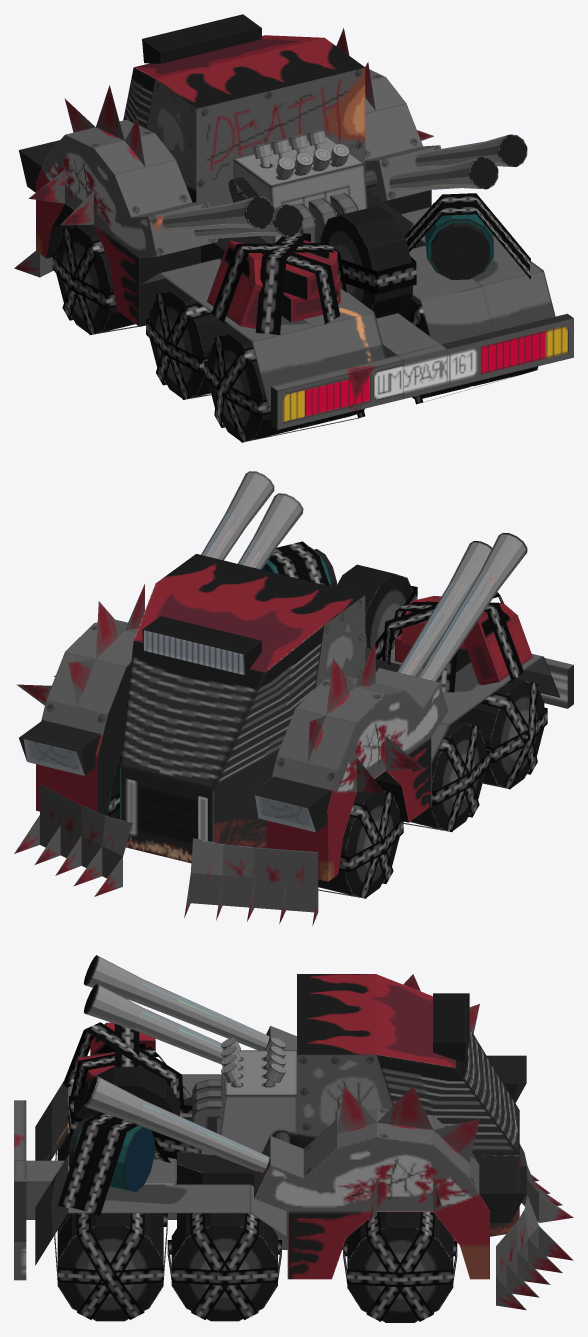
File: Truck.fbx
3 views of the same model, one above another, from view 1: azimuth 30°, elevation 25°; view 2: azimuth 150°, elevation 25°; view 3: azimuth 270°, elevation 25° (orthographic). The views are drawn at different scales.
Parts seen in each view (by area): view 1: Body, Engine, cylinder_14, cylinder_2, cylinder_4, cylinder, cylinder_33, cylinder_10, cylinder_9, plane_3, cylinder_12, plane_2 (+17 smaller); view 2: Body, plane_1, plane, cylinder_10, cylinder_4, cylinder_11, cylinder, cylinder_14, cylinder_2, cylinder_12, cylinder_9, plane_2 (+12 smaller); view 3: Body, Engine, cylinder_6, cylinder_15, cylinder_1, cylinder_12, cylinder_10, plane, cylinder_11, cylinder_14, plane_26, plane_25 (+15 smaller).
Boxes of the visible parts, left/top/right/bottom form: Body: left=19, top=14, right=573, bottom=429; Engine: left=233, top=136, right=367, bottom=243; cylinder_14: left=320, top=205, right=412, bottom=318; cylinder_2: left=149, top=288, right=236, bottom=398; cylinder_4: left=208, top=331, right=306, bottom=441; cylinder: left=56, top=224, right=135, bottom=333; cylinder_33: left=431, top=223, right=489, bottom=279; cylinder_10: left=162, top=196, right=274, bottom=231; cylinder_9: left=389, top=156, right=498, bottom=191; plane_3: left=255, top=233, right=310, bottom=334; cylinder_12: left=415, top=134, right=527, bottom=169; plane_2: left=211, top=243, right=346, bottom=323; Body: left=17, top=554, right=573, bottom=881; plane_1: left=184, top=838, right=318, bottom=925; plane: left=14, top=784, right=132, bottom=896; cylinder_10: left=418, top=533, right=527, bottom=681; cylinder_4: left=456, top=678, right=544, bottom=789; cylinder_11: left=397, top=541, right=491, bottom=676; cylinder: left=318, top=791, right=399, bottom=896; cylinder_14: left=335, top=564, right=413, bottom=648; cylinder_2: left=410, top=721, right=485, bottom=830; cylinder_12: left=201, top=471, right=274, bottom=560; cylinder_9: left=237, top=493, right=303, bottom=569; plane_2: left=391, top=602, right=523, bottom=682; Body: left=14, top=974, right=526, bottom=1280; Engine: left=192, top=1050, right=296, bottom=1153; cylinder_6: left=57, top=1213, right=163, bottom=1321; cylinder_15: left=347, top=1212, right=453, bottom=1322; cylinder_1: left=171, top=1213, right=277, bottom=1321; cylinder_12: left=84, top=1075, right=269, bottom=1172; cylinder_10: left=83, top=955, right=269, bottom=1050; plane: left=496, top=1195, right=573, bottom=1310; cylinder_11: left=84, top=983, right=222, bottom=1064; cylinder_14: left=74, top=1067, right=179, bottom=1133; plane_26: left=79, top=1118, right=170, bottom=1215; plane_25: left=58, top=1112, right=119, bottom=1209.
Bounding box in the file's own units: 645 × 406 × 858.
Materials: 1 (1 with a texture image).
